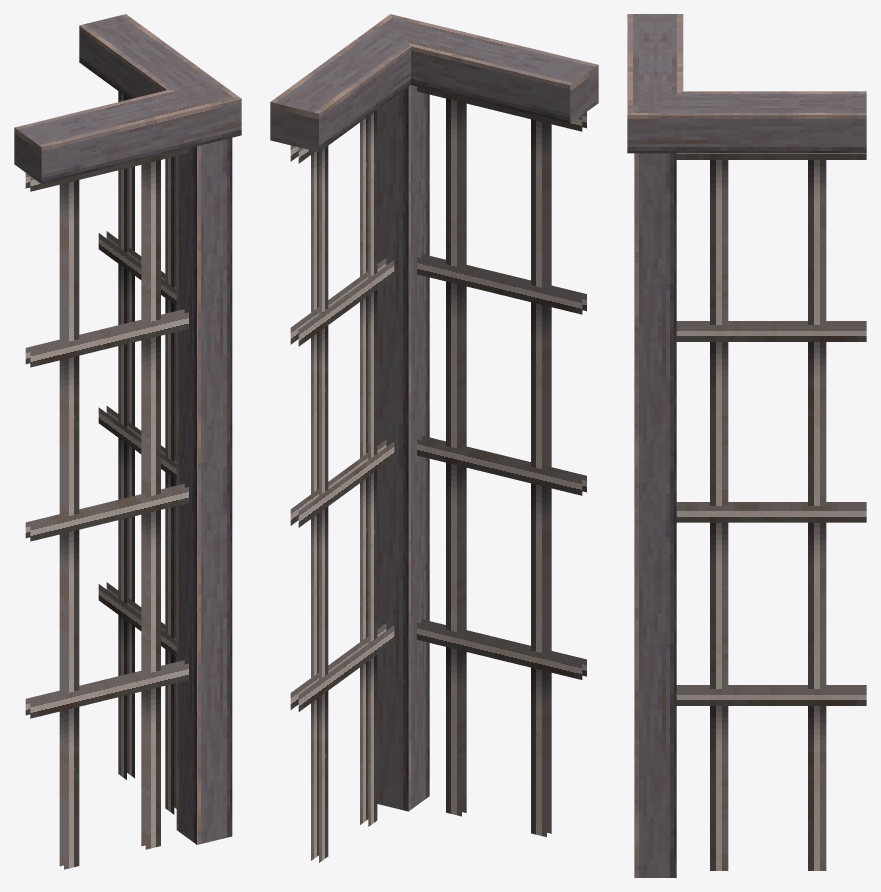
The model's file is IronFence - corner.fbx.
3 views of the same model, side by side, from view 1: azimuth 30°, elevation 25°; view 2: azimuth 150°, elevation 25°; view 3: azimuth 270°, elevation 25° (orthographic). The views are drawn at different scales.
Visible parts, largest first — view 1: IronFence_corner; view 2: IronFence_corner; view 3: IronFence_corner.
Part boxes in pixels (x1,y1,x2,y2): IronFence_corner: [14, 14, 241, 869]; IronFence_corner: [270, 14, 598, 862]; IronFence_corner: [627, 14, 866, 877].
Size of the model in its own units: 0.5664 by 2 by 0.5664.
